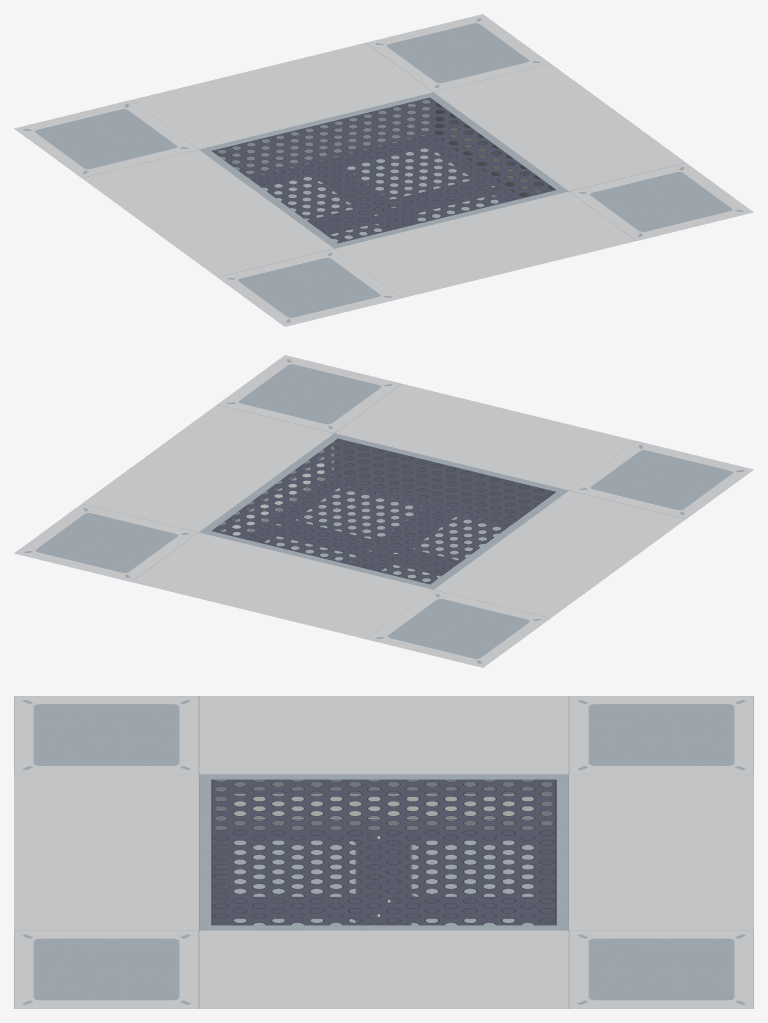
File: Floor_03_B.FBX
The picture shows the model from 3 angles, top to bottom: view 1: azimuth 30°, elevation 25°; view 2: azimuth 150°, elevation 25°; view 3: azimuth 270°, elevation 25°; orthographic projection. The views are drawn at different scales.
Visible parts, largest first — view 1: Floor_03_B; view 2: Floor_03_B; view 3: Floor_03_B.
Part boxes in pixels (x1,y1,x2,y2): Floor_03_B: [14, 14, 753, 326]; Floor_03_B: [14, 355, 753, 667]; Floor_03_B: [14, 696, 753, 1008].
Size of the model in its own units: 6 by 0.5 by 6.
2 materials, 2 textured.
